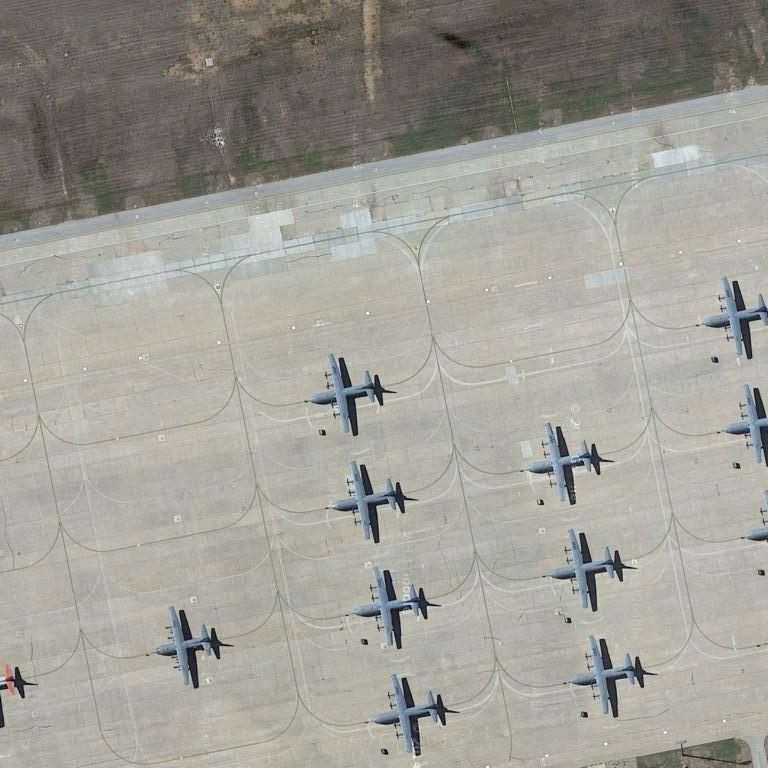C-130: (352, 564, 434, 654), (369, 669, 451, 757), (567, 631, 646, 722), (327, 457, 407, 546), (525, 422, 602, 507), (306, 354, 383, 438), (548, 532, 625, 614), (151, 601, 222, 688), (702, 282, 765, 364), (721, 382, 765, 472)
